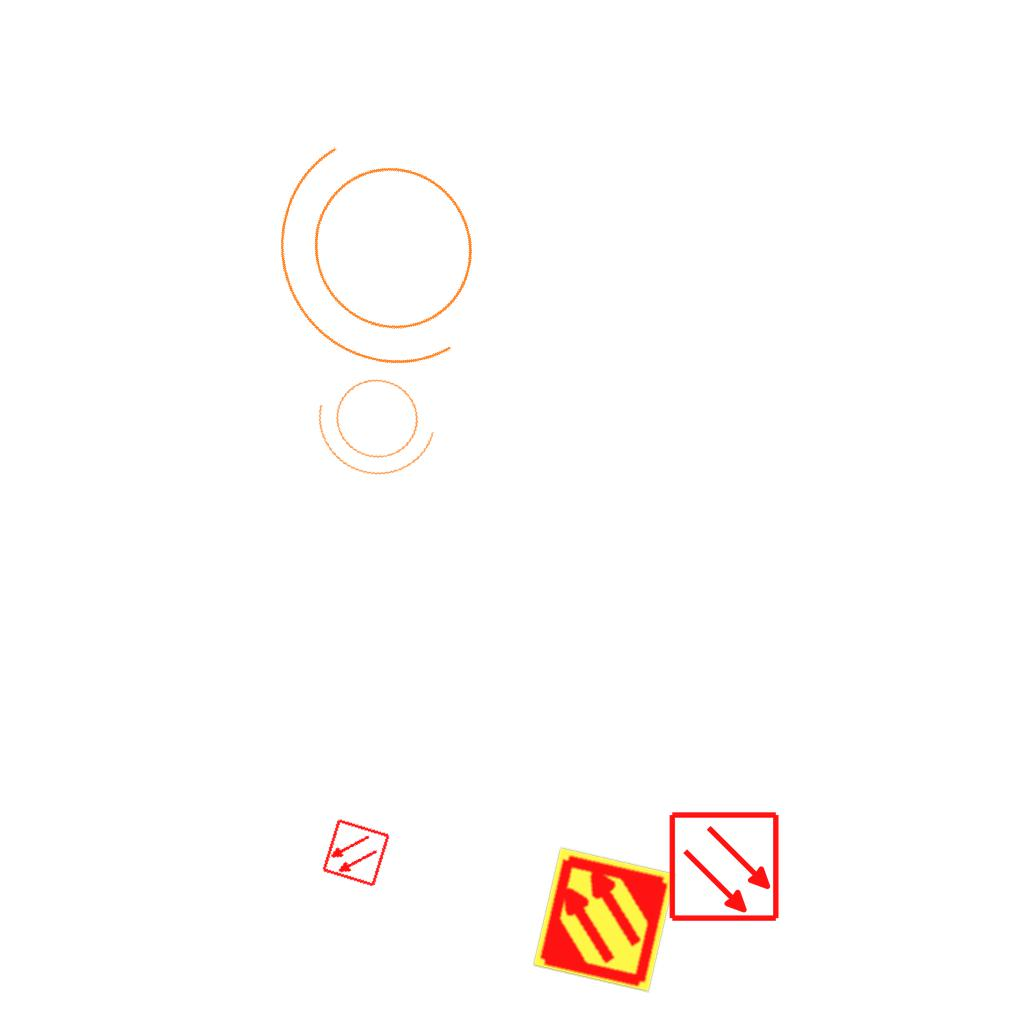ASR_Ansaugrauchmelder: (529, 844, 680, 995)
RMO_Rauchmelder_optischer: (668, 810, 781, 923), (321, 818, 391, 888)
Scheinwerfer_fuer_Alarmbeleuchtung: (224, 87, 552, 430), (301, 353, 457, 495)
